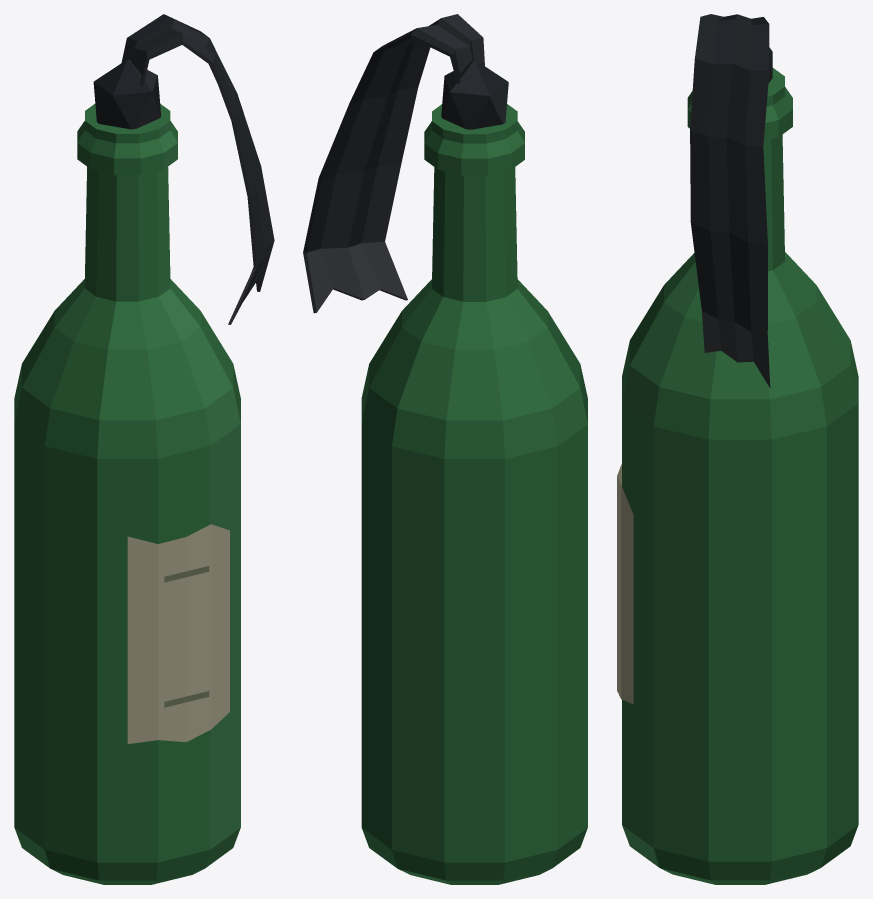
The model's file is Molotov_LowPoly.fbx.
The picture shows the model from 3 angles, left to right: view 1: azimuth 30°, elevation 25°; view 2: azimuth 150°, elevation 25°; view 3: azimuth 270°, elevation 25°; orthographic projection. The views are drawn at different scales.
Parts seen in each view (by area): view 1: Bottle_12Sided, Label_TornPaper, Cloth_FoldedTail, Cloth_MouthFold; view 2: Bottle_12Sided, Cloth_FoldedTail, Cloth_MouthFold; view 3: Bottle_12Sided, Cloth_FoldedTail, Label_TornPaper.
Boxes of the visible parts, x1=… form: Bottle_12Sided: x1=14, y1=104, x2=240, y2=884; Label_TornPaper: x1=127, y1=524, x2=229, y2=743; Cloth_FoldedTail: x1=121, y1=14, x2=274, y2=324; Cloth_MouthFold: x1=93, y1=59, x2=161, y2=129; Bottle_12Sided: x1=361, y1=104, x2=587, y2=884; Cloth_FoldedTail: x1=303, y1=14, x2=484, y2=313; Cloth_MouthFold: x1=441, y1=59, x2=508, y2=129; Bottle_12Sided: x1=622, y1=68, x2=858, y2=884; Cloth_FoldedTail: x1=690, y1=14, x2=770, y2=388; Label_TornPaper: x1=617, y1=464, x2=633, y2=704.
Size of the model in its own units: 0.1138 by 0.3437 by 0.089.
